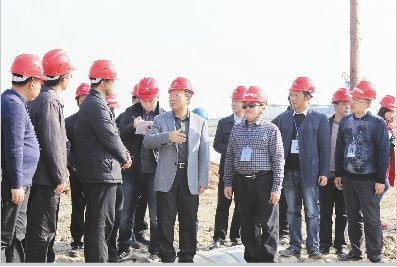red: (8, 51, 45, 102), (39, 46, 73, 95), (86, 58, 118, 98), (165, 75, 194, 115), (239, 84, 268, 124), (287, 74, 315, 113), (134, 73, 161, 112), (348, 80, 375, 118), (329, 86, 353, 118), (375, 92, 395, 125), (228, 84, 248, 115), (74, 81, 91, 107)
